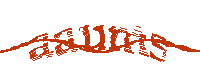a: (29, 33, 52, 60), (54, 28, 77, 55)
m: (110, 24, 148, 58)
s: (150, 32, 168, 63)
u: (79, 23, 105, 52)
